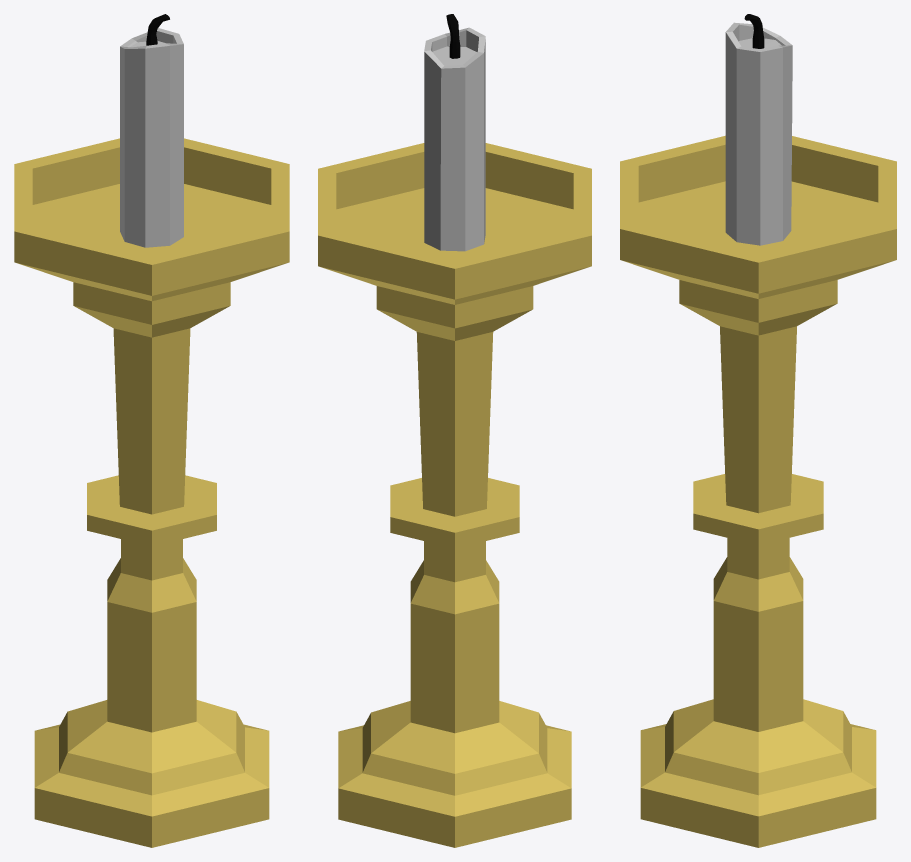
The model's file is Candle.fbx.
3 views of the same model, side by side, from view 1: azimuth 30°, elevation 25°; view 2: azimuth 150°, elevation 25°; view 3: azimuth 270°, elevation 25° (orthographic).
Visible parts, largest first — view 1: candle5; view 2: candle5; view 3: candle5.
Part boxes in pixels (bbox=[...]): candle5: bbox=[14, 14, 289, 847]; candle5: bbox=[318, 14, 591, 847]; candle5: bbox=[620, 14, 896, 847].
Size of the model in its own units: 0.00652 by 0.0176 by 0.00565.
